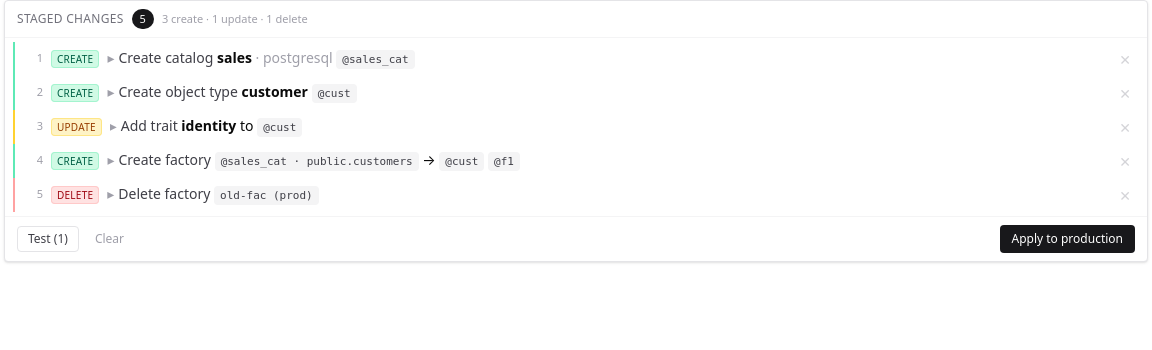
Test: ChangesetPanel › runs saved tests and renders per-test results
Click the button with test id "test-stage" at (48, 239), box [17, 226, 79, 252]
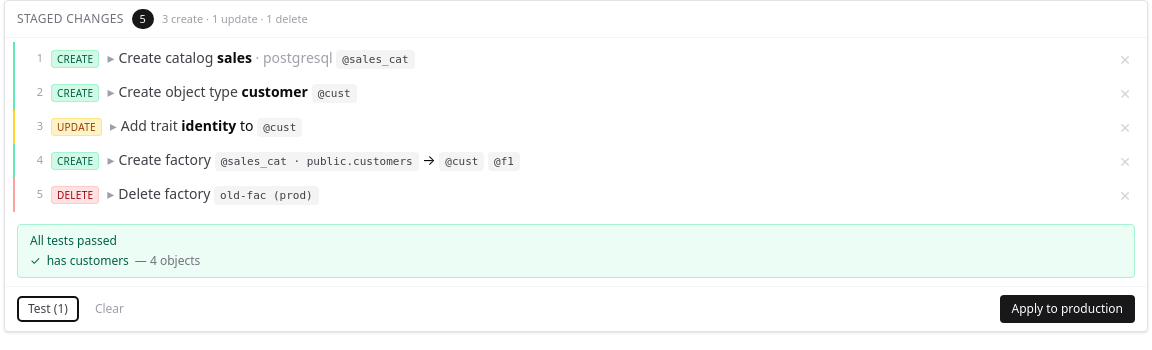
Check: the element with test id "test-results" shows "All tests passed", box [30, 232, 117, 249]
Check: the element with test id "test-results" shows "has customers", box [47, 252, 129, 269]
Check: the element with test id "test-results" shows "4 objects", box [17, 224, 1135, 278]
